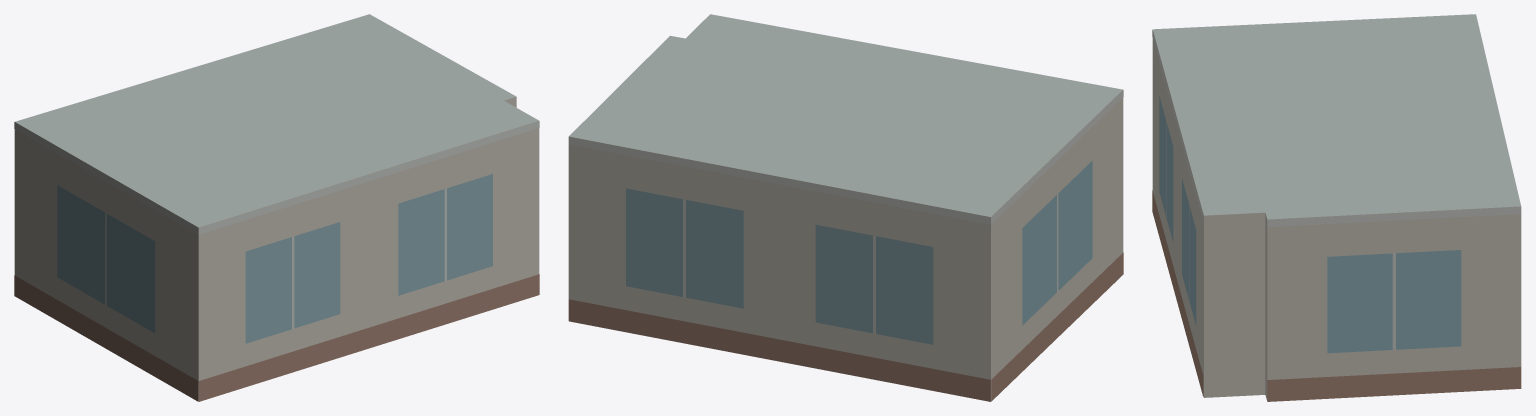
File: survey-upis-32808640.glb
3 views of the same model, side by side, from view 1: azimuth 30°, elevation 25°; view 2: azimuth 150°, elevation 25°; view 3: azimuth 270°, elevation 25° (orthographic). The views are drawn at different scales.
Parts seen in each view (by area): view 1: survey-upis-32808640.tmp; view 2: survey-upis-32808640.tmp; view 3: survey-upis-32808640.tmp.
Boxes of the visible parts, x1=… form: survey-upis-32808640.tmp: x1=14, y1=14, x2=539, y2=401; survey-upis-32808640.tmp: x1=568, y1=14, x2=1123, y2=401; survey-upis-32808640.tmp: x1=1152, y1=14, x2=1521, y2=401.
Size of the model in its own units: 7.38 by 3.05 by 5.6.
